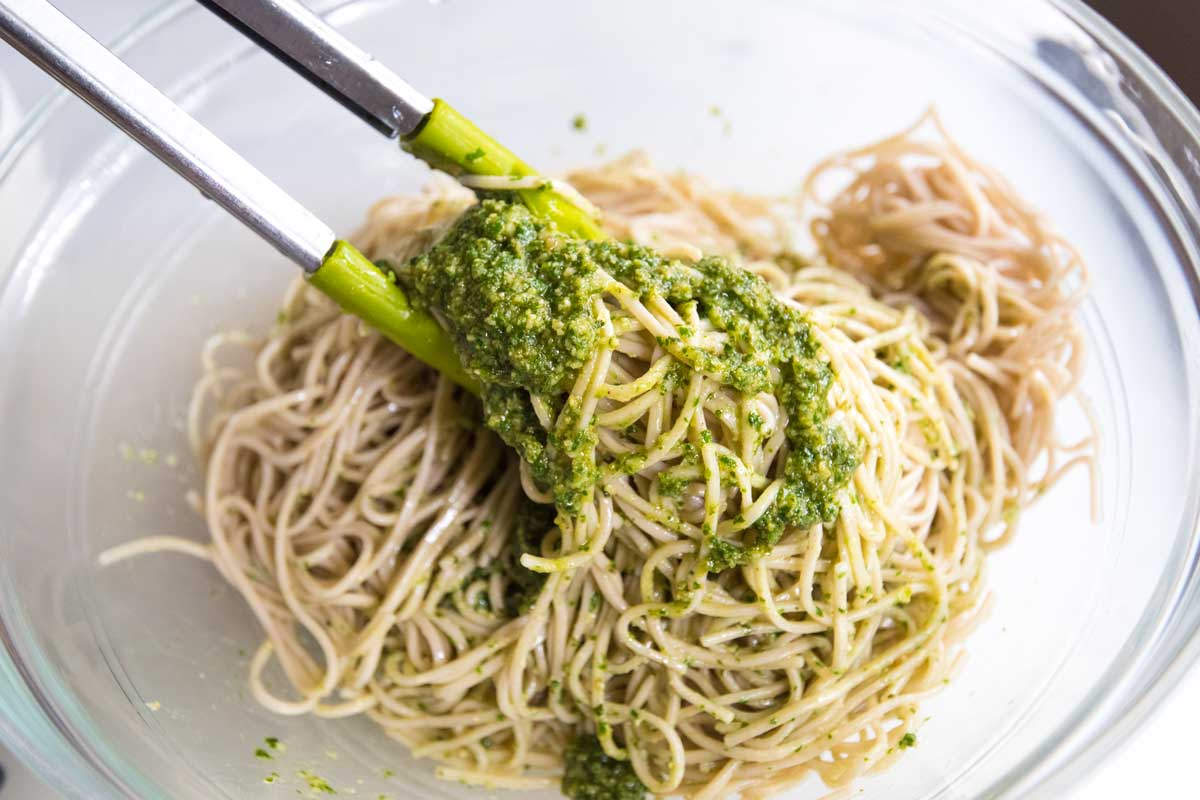Soba: (229, 138, 1104, 784)
